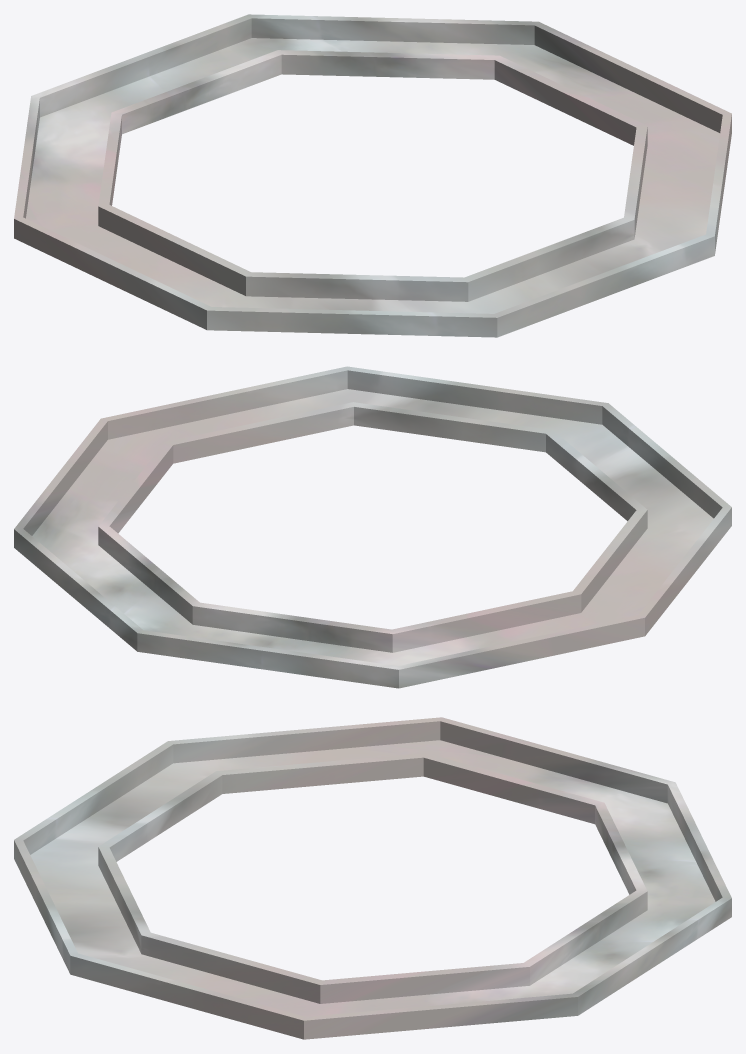
The model's file is TheOctagon_Floor_8.gltf.
3 renders of one model, top to bottom at view 1: azimuth 30°, elevation 25°; view 2: azimuth 150°, elevation 25°; view 3: azimuth 270°, elevation 25°, orthographic. The views are drawn at different scales.
Visible parts, largest first — view 1: TheOctagon_Floor_8; view 2: TheOctagon_Floor_8; view 3: TheOctagon_Floor_8.
Boxes of the visible parts, x1,y1,x2,y2 form: TheOctagon_Floor_8: (14, 14, 731, 337); TheOctagon_Floor_8: (14, 366, 731, 688); TheOctagon_Floor_8: (14, 717, 731, 1039).
Bounding box in the file's own units: 81.92 × 2.39 × 81.92.
Materials: 1 (1 with a texture image).
